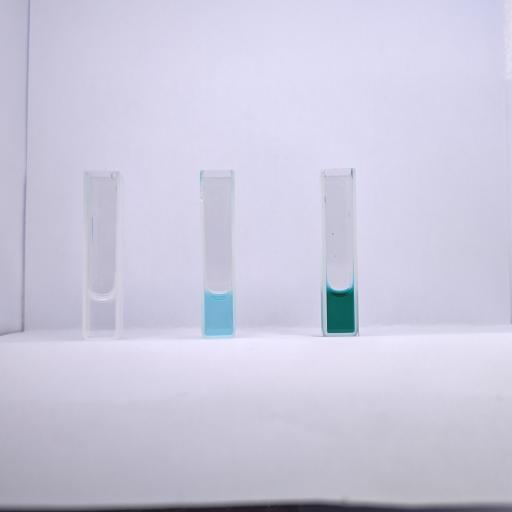cuvette: (80, 168, 122, 343), (319, 166, 361, 341), (198, 166, 238, 340)
liquid: (326, 287, 354, 333), (87, 293, 115, 336), (206, 291, 232, 334)
